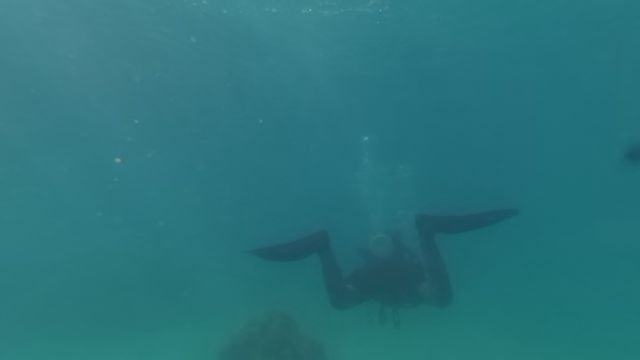Diver: (246, 196, 526, 320)
